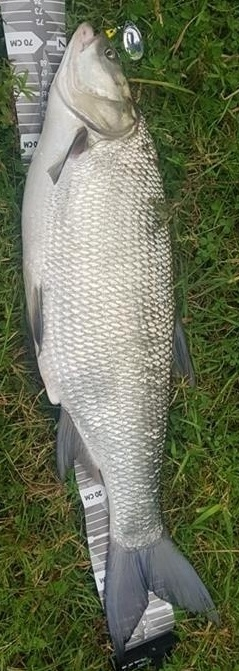Aspius aspius: (20, 20, 219, 651)
